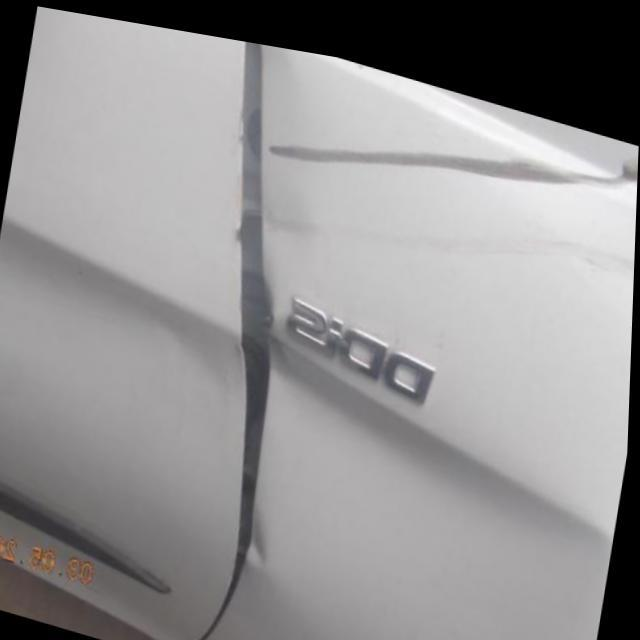dislocated part: (183, 32, 280, 640), (267, 124, 639, 170)
